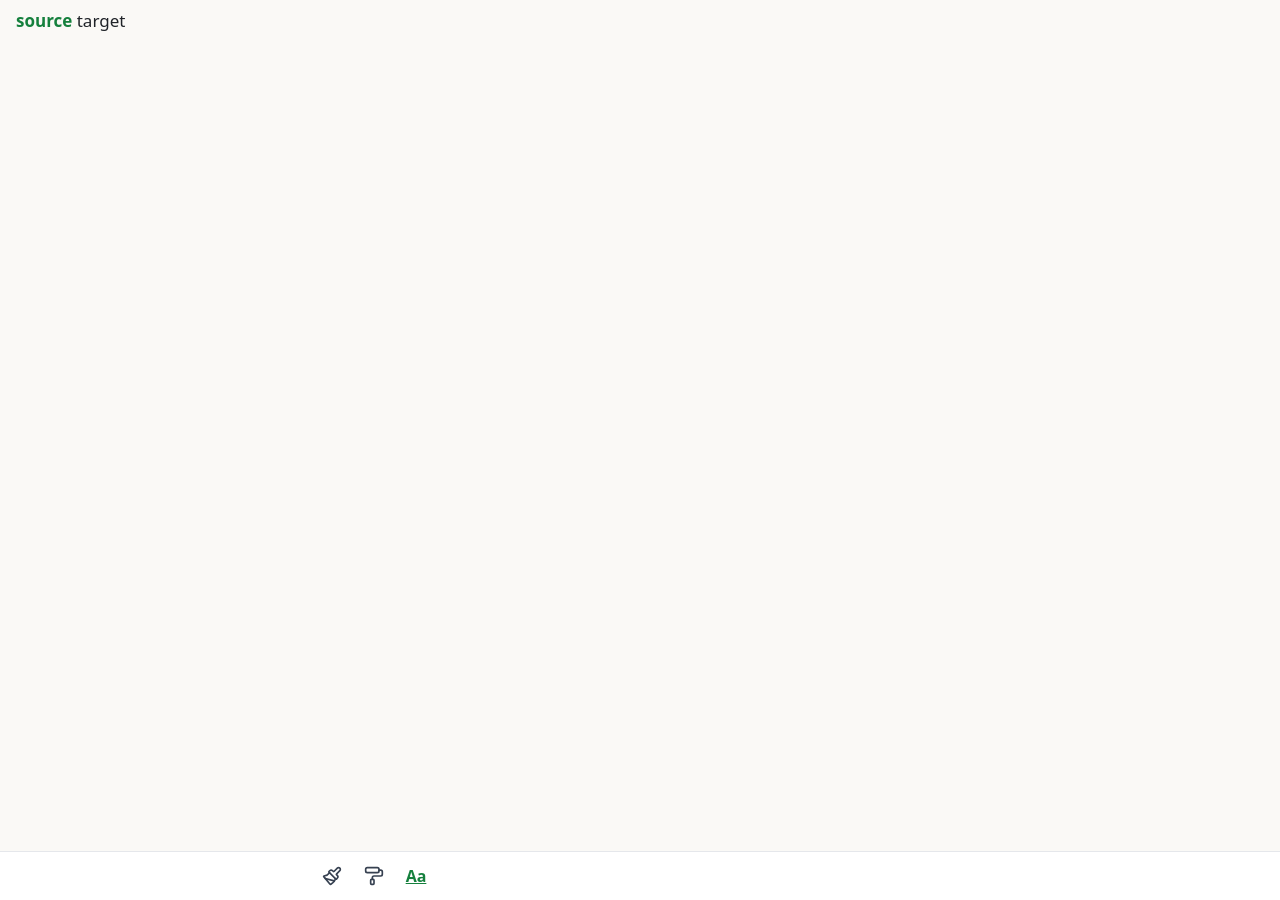
Test case: arms at the cursor and applies once from the popup without applying on selection change
Press the mouse on the button named "Format painter" at (374, 876), box [354,856,394,896]
Click the button named "Format painter" at (374, 876), box [354,856,394,896]
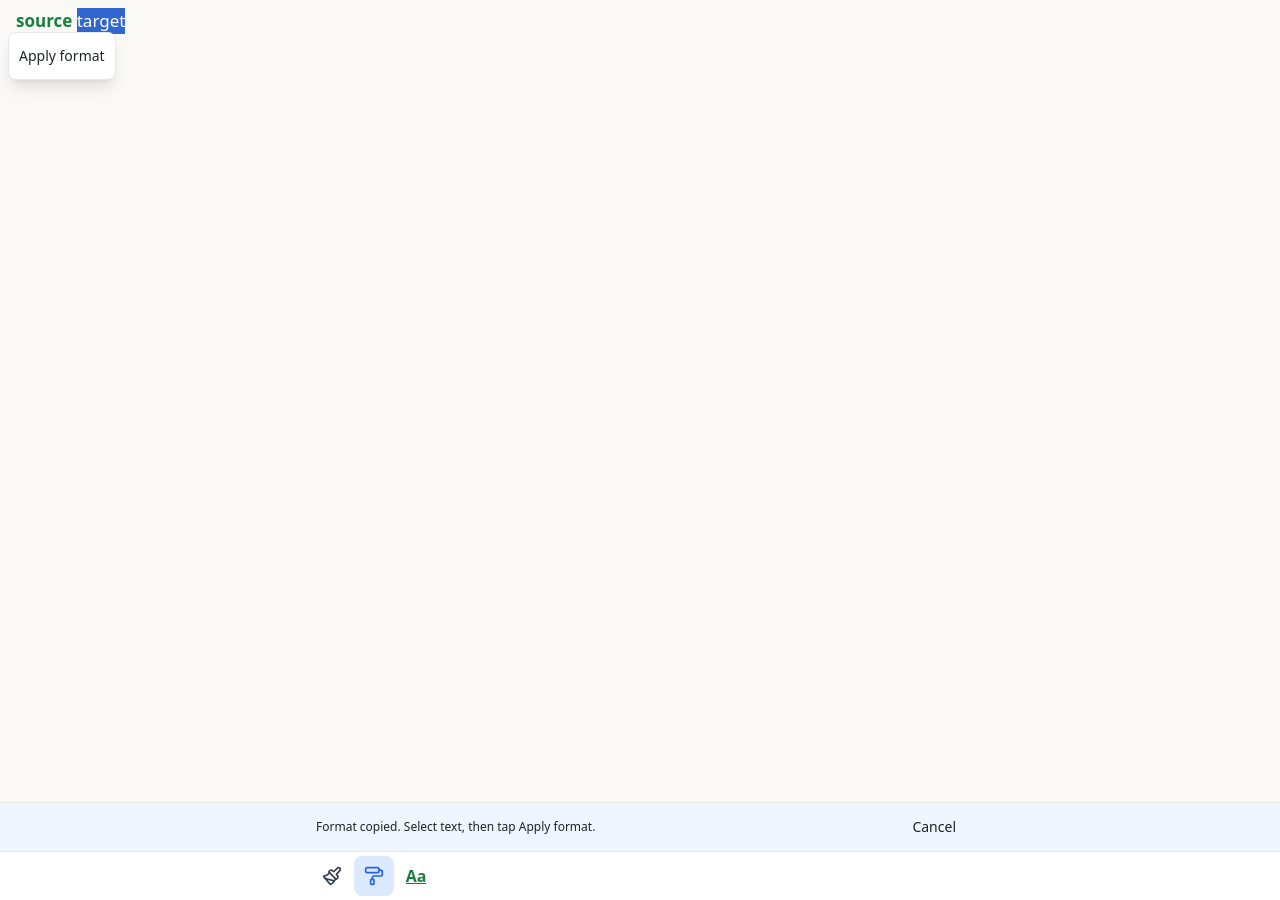
Expected: the text "Format copied. Select text, then tap Apply format." is shown, [316,818,595,835]
Expected: the button "Apply format" is shown
Press the mouse on the button "Apply format" at (62, 55), box [11,35,113,75]
Click the button "Apply format" at (62, 55), box [11,35,113,75]
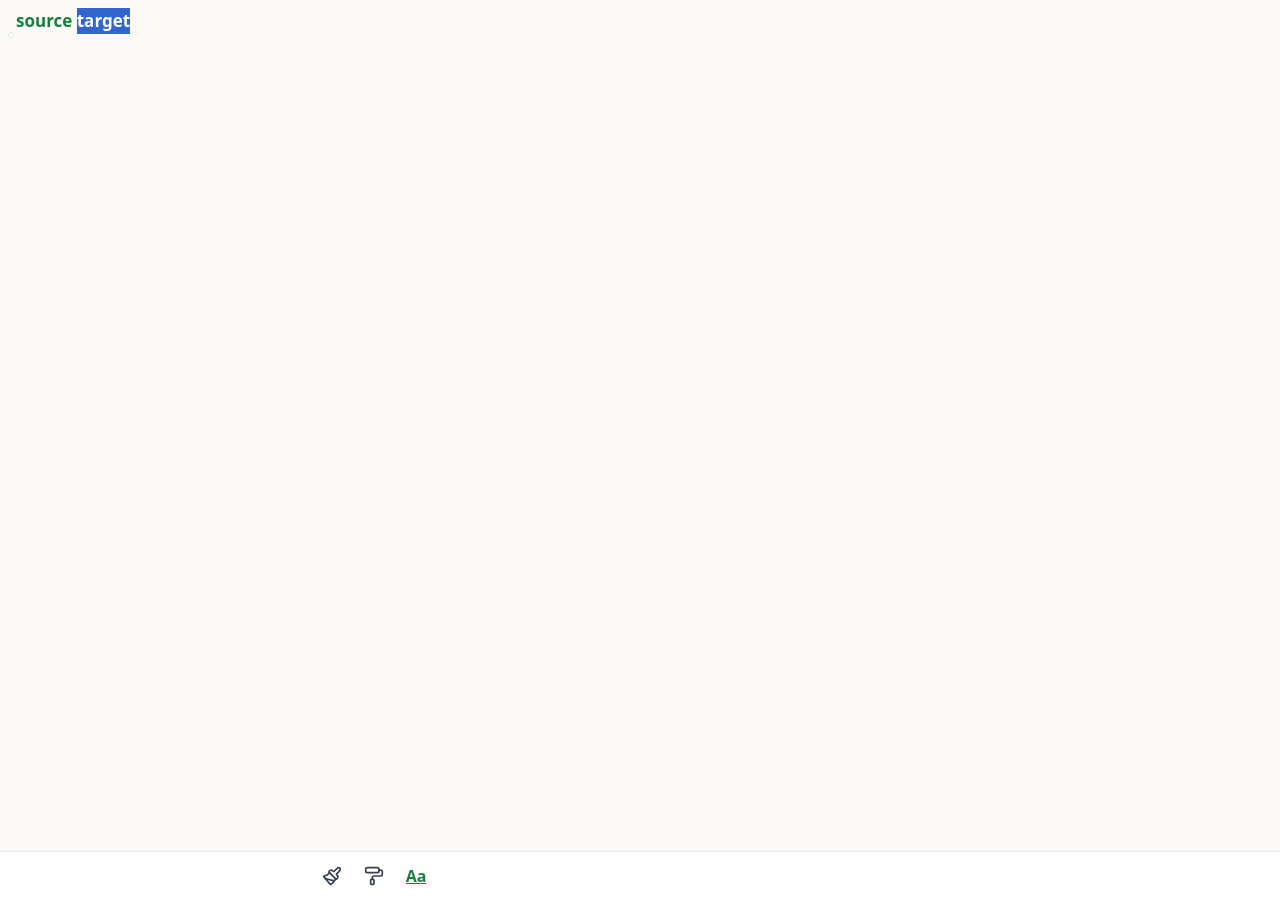
Expected: the text "Format copied. Select text, then tap Apply format." is gone
Expected: the button "Apply format" is gone
